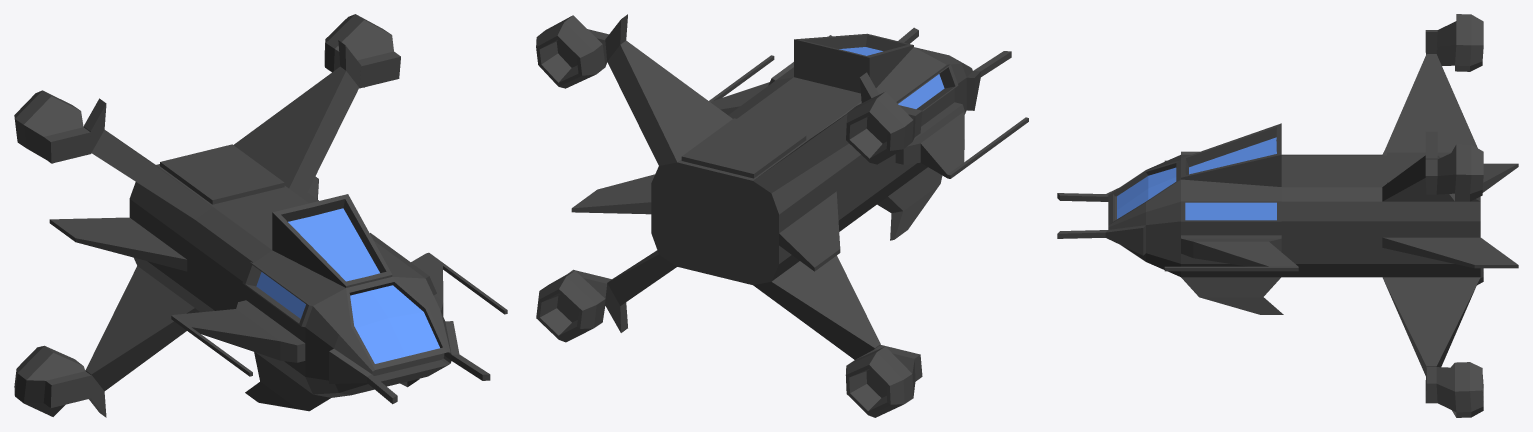
Rendered from VoidPhantom22.glb.
3 renders of one model, left to right at view 1: azimuth 30°, elevation 25°; view 2: azimuth 150°, elevation 25°; view 3: azimuth 270°, elevation 25°, orthographic. The views are drawn at different scales.
Visible parts, largest first — view 1: VoidPhantom22; view 2: VoidPhantom22; view 3: VoidPhantom22.
Part boxes in pixels (left/top/right/bottom): VoidPhantom22: left=14, top=14, right=507, bottom=417; VoidPhantom22: left=536, top=14, right=1028, bottom=417; VoidPhantom22: left=1057, top=14, right=1518, bottom=417.
Bounding box in the file's own units: 18.91 × 15.76 × 24.01.
Materials: 1 (1 with a texture image).
